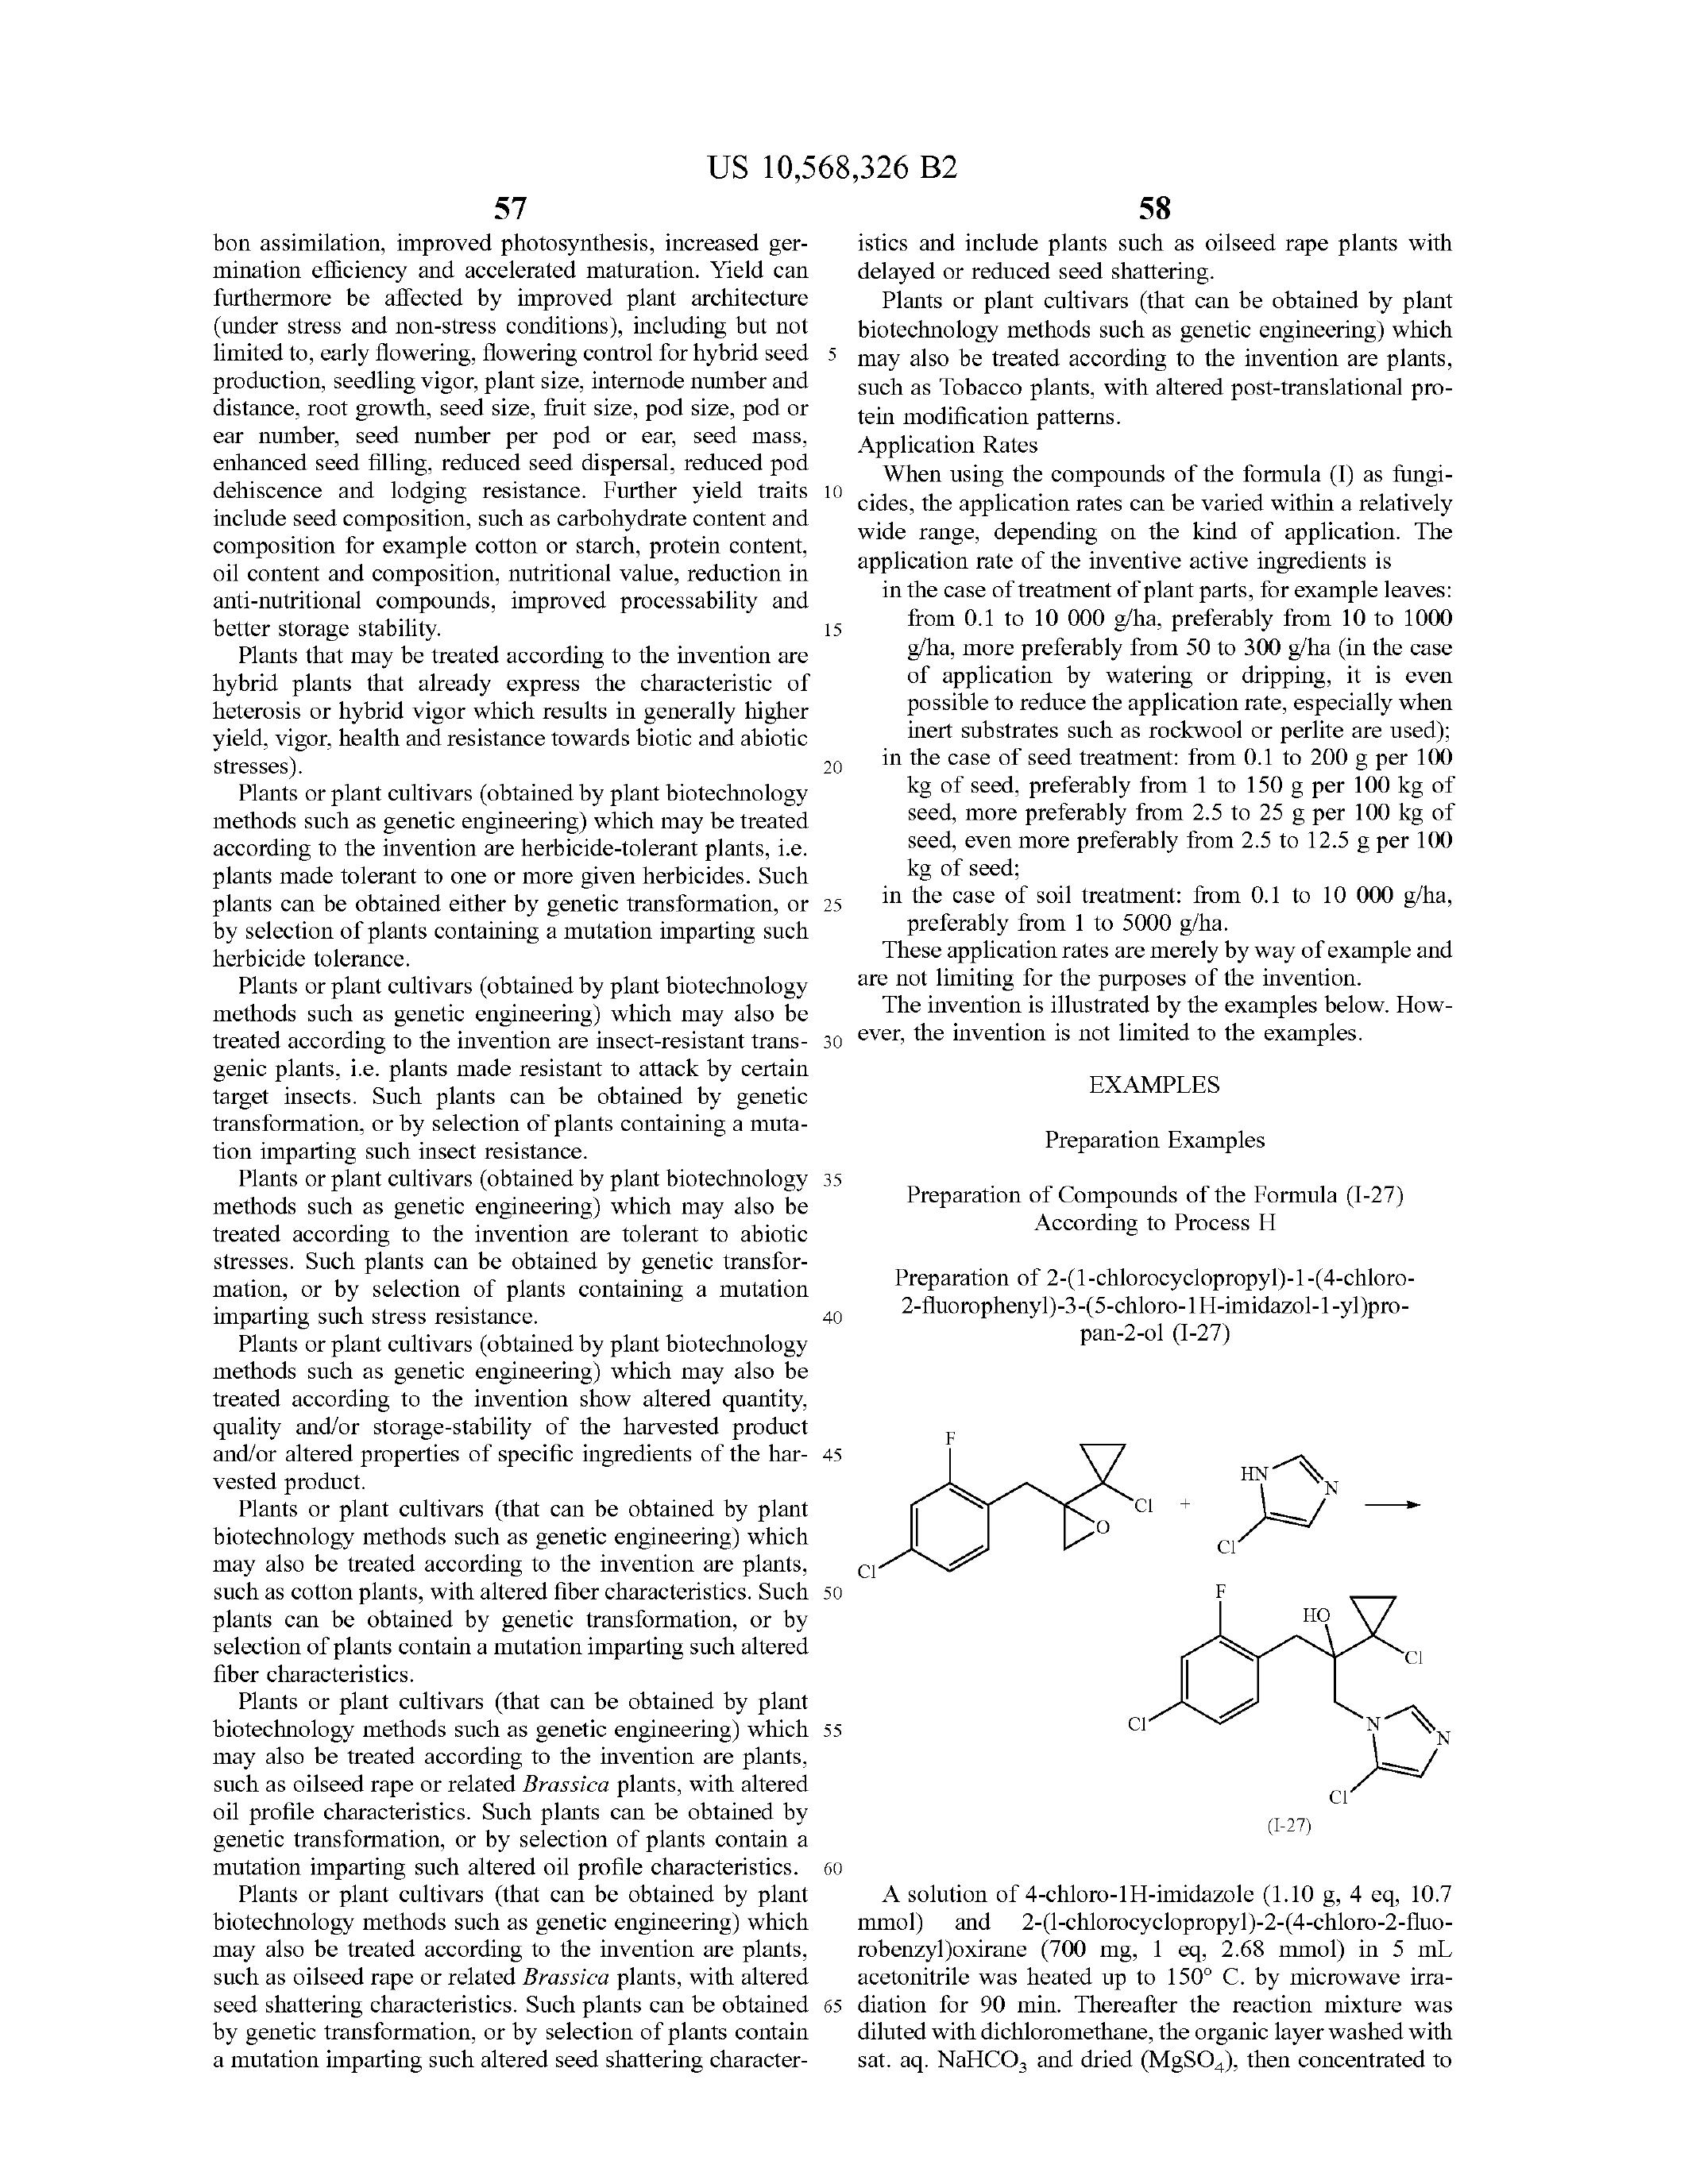reactions: (860, 1381, 1472, 1863)
